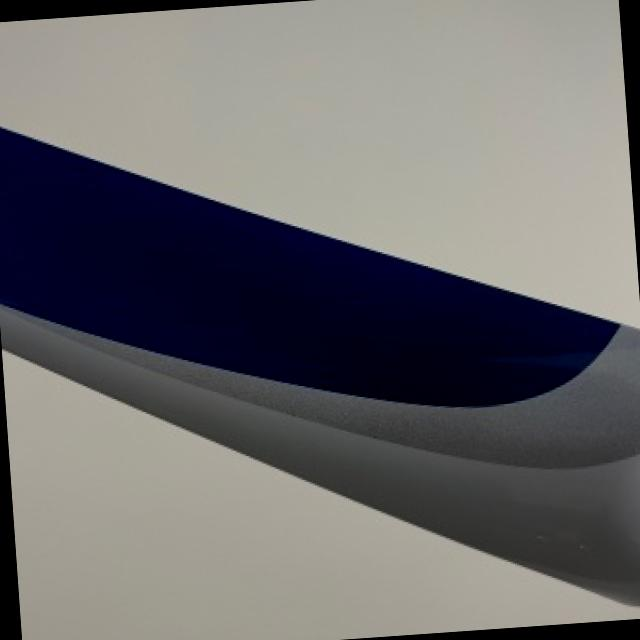healthy: (0, 126, 640, 601), (1, 349, 640, 640)
